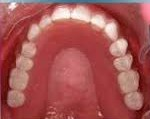UL1BC_healthy: (111, 41, 127, 56)
UL1M_healthy: (119, 72, 138, 93)
UL2BC_healthy: (116, 56, 133, 71)
UL2M_healthy: (126, 93, 144, 110)
ULCI_healthy: (73, 7, 91, 27)
ULC_healthy: (107, 23, 118, 42)
ULLI_healthy: (92, 14, 105, 32)
UR1BC_healthy: (21, 40, 37, 57)
UR1M_healthy: (9, 69, 29, 90)
UR2BC_healthy: (17, 56, 33, 71)
UR2M_healthy: (8, 91, 26, 107)
URCI_healthy: (53, 7, 71, 21)
URC_healthy: (29, 25, 42, 42)
URLI_healthy: (41, 16, 53, 30)
